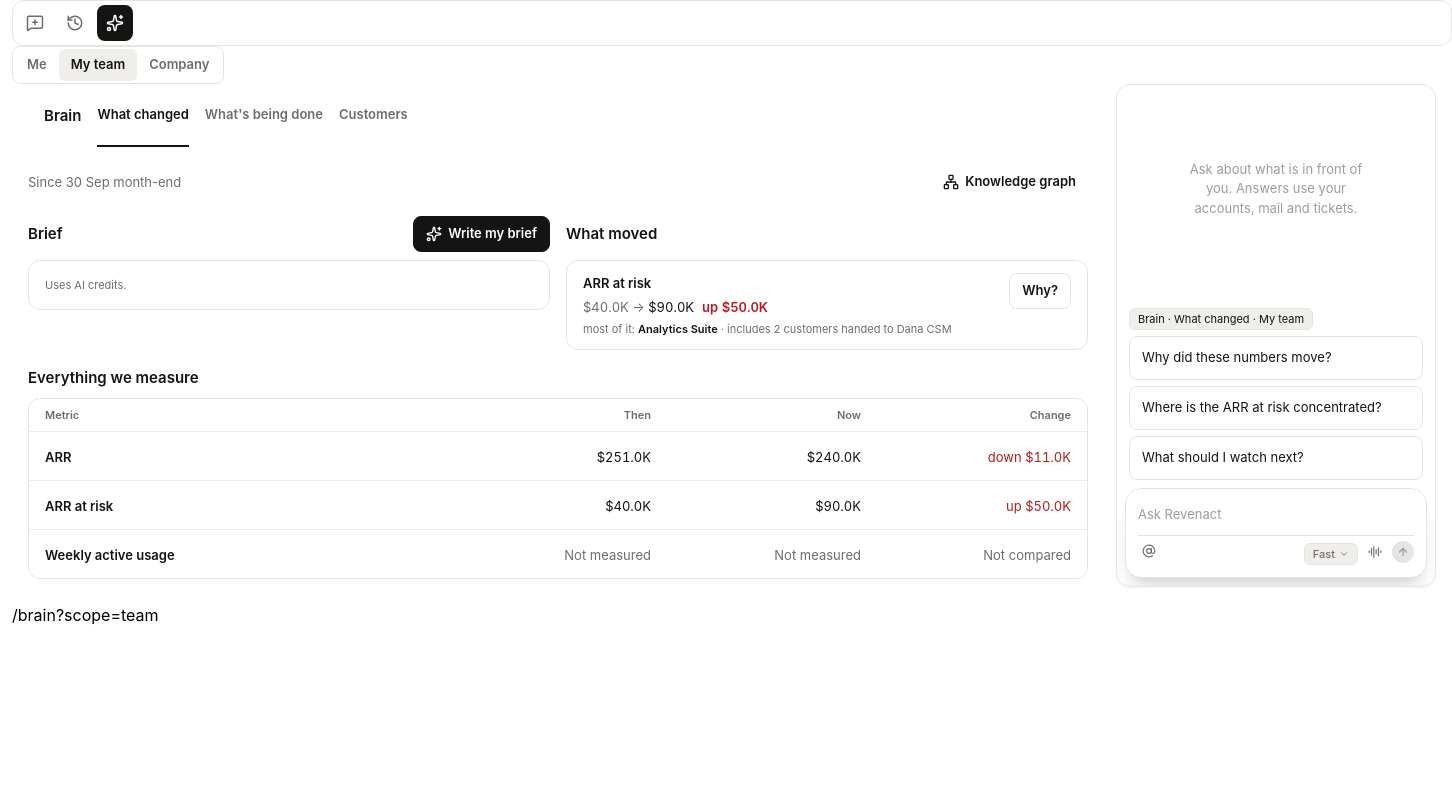
Scenario: BrainAskLayout (brain ask spec §2.2) › asks from the tab in the route and the scope the page settled on
expect the text "Since 30 Sep month-end" is shown: met, box 28,172 -> 181,192
Type "Why?" into the field with placeholder "Ask Revenact" at coordinates (1276, 515), box 1138,503 -> 1414,526
Then press Enter
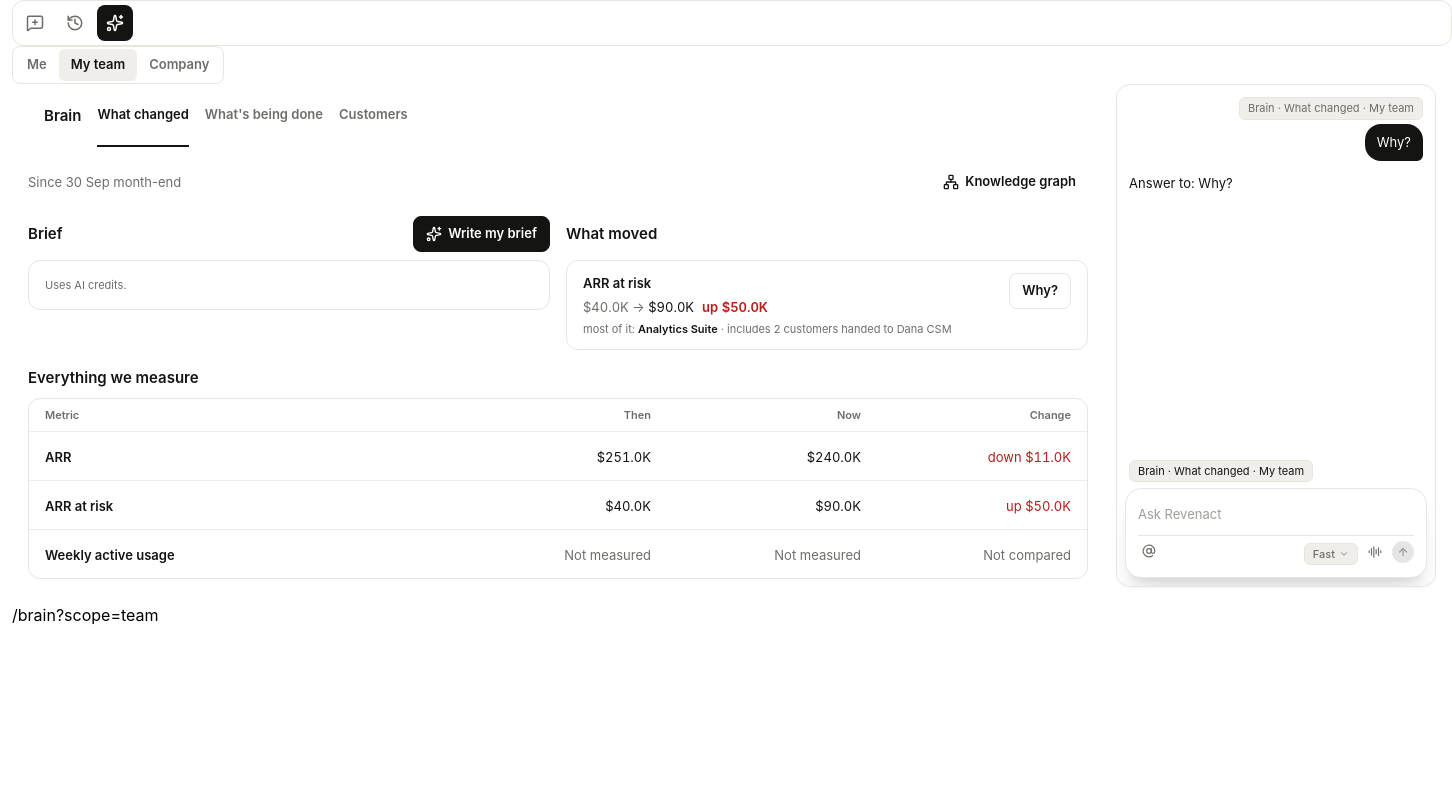
expect the text "Answer to: Why?" is shown: met, box 1129,173 -> 1233,194
